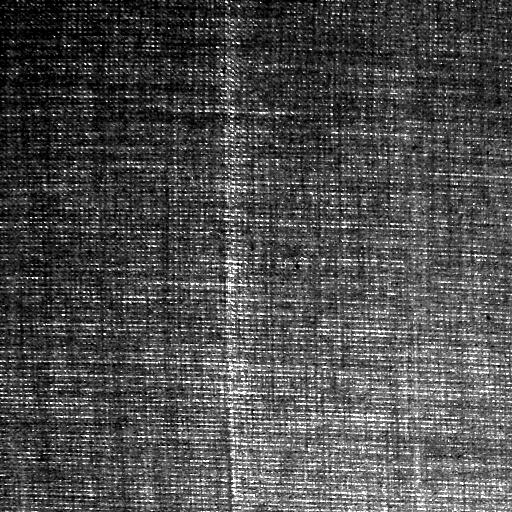fabric_missing_pick: (219, 10, 260, 503)
